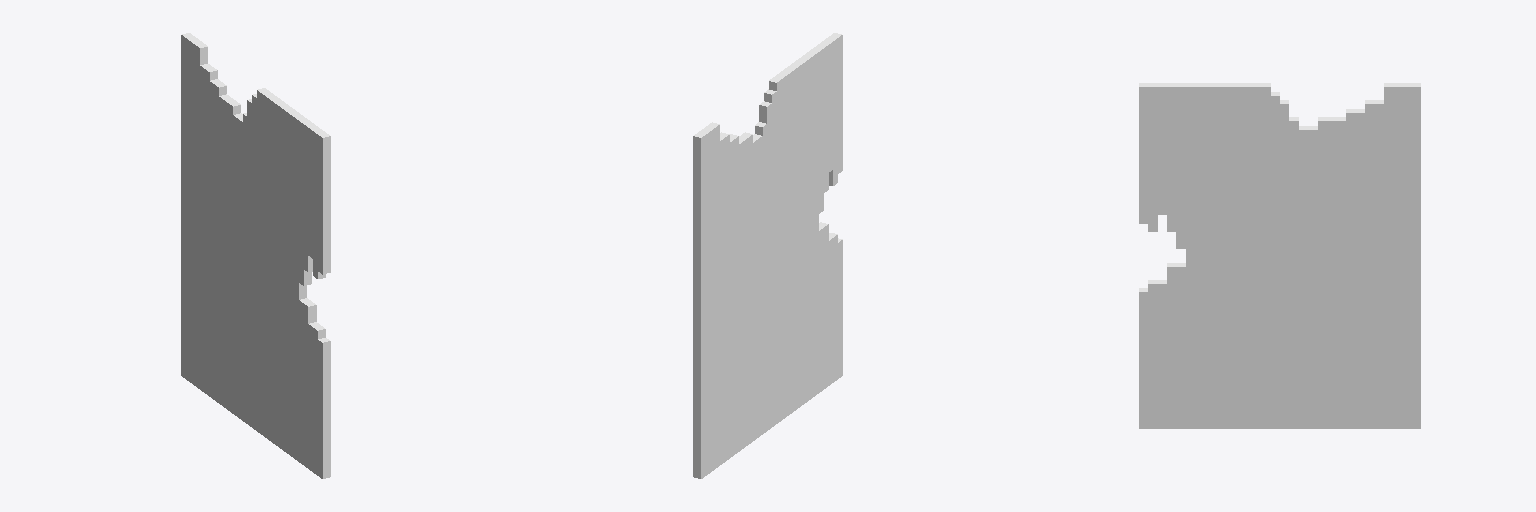
The model's file is paper_old_0.obj.
3 renders of one model, left to right at view 1: azimuth 30°, elevation 25°; view 2: azimuth 150°, elevation 25°; view 3: azimuth 270°, elevation 25°, orthographic.
Parts seen in each view (by area): view 1: object 1; view 2: object 1; view 3: object 1.
Boxes of the visible parts, x1,y1,x2,y2 form: object 1: [181, 33, 330, 478]; object 1: [693, 33, 842, 478]; object 1: [1139, 83, 1420, 428].
Bounding box in the file's own units: 0.1 × 4 × 3.